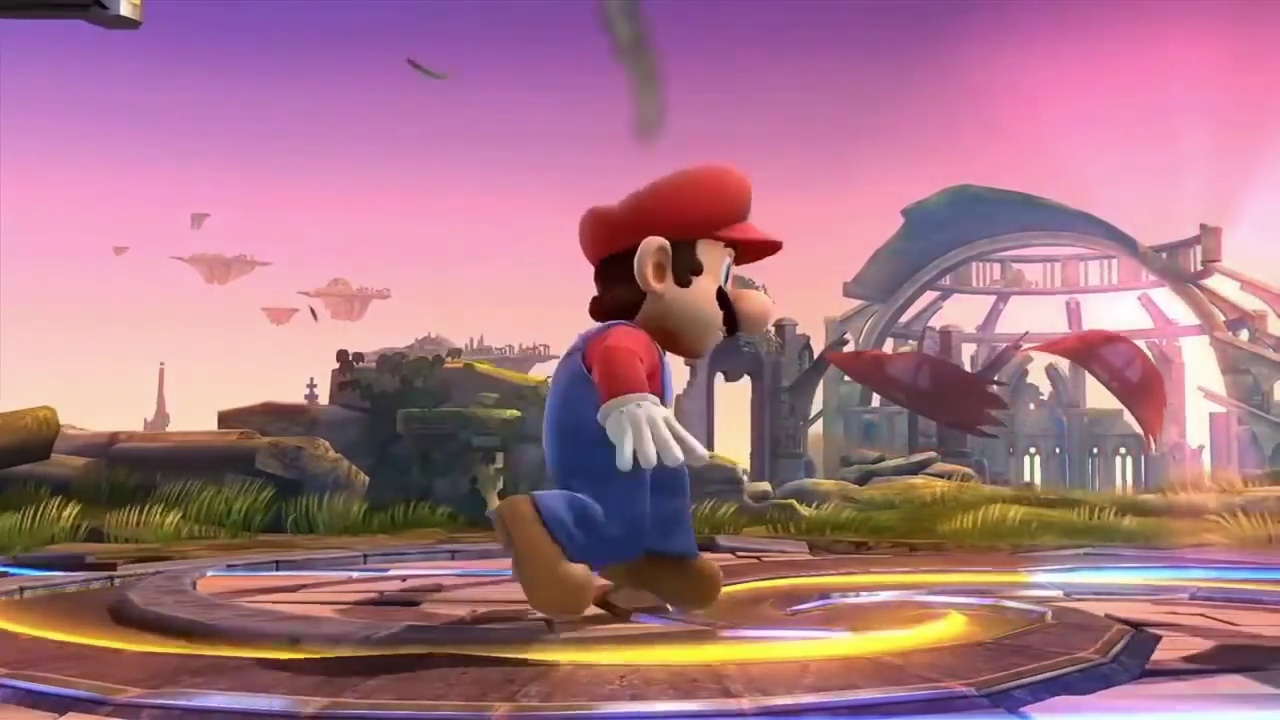Mario: (496, 164, 783, 618)
